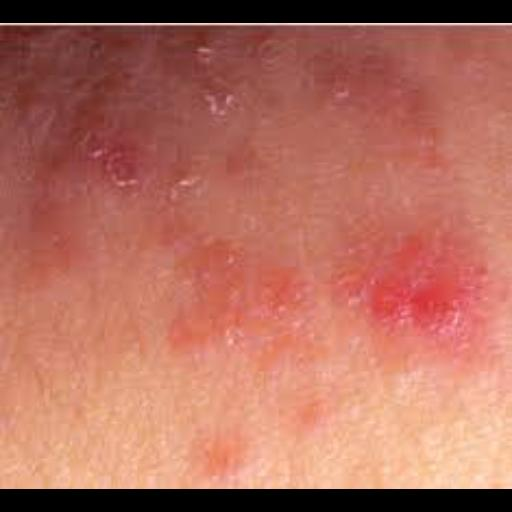Skin_Lesion: (342, 255, 502, 379), (190, 248, 290, 322), (74, 116, 144, 206), (70, 35, 132, 89), (195, 72, 249, 128), (412, 129, 460, 187), (210, 432, 248, 486), (322, 69, 362, 109), (182, 28, 214, 68)
